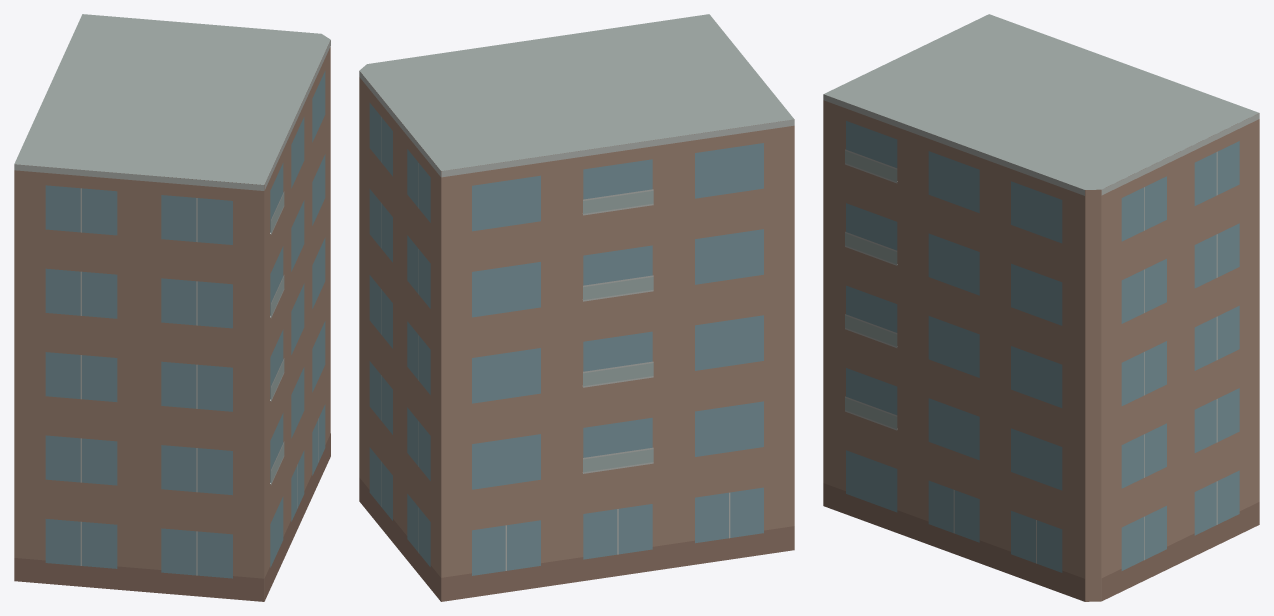
Rendered from survey-upis-32886833.glb.
3 renders of one model, left to right at view 1: azimuth 30°, elevation 25°; view 2: azimuth 150°, elevation 25°; view 3: azimuth 270°, elevation 25°, orthographic. The views are drawn at different scales.
Parts seen in each view (by area): view 1: survey-upis-32886833.tmp; view 2: survey-upis-32886833.tmp; view 3: survey-upis-32886833.tmp.
Part boxes in pixels (left/top/right/bottom): survey-upis-32886833.tmp: left=14, top=14, right=330, bottom=601; survey-upis-32886833.tmp: left=359, top=14, right=794, bottom=601; survey-upis-32886833.tmp: left=823, top=14, right=1259, bottom=601.
Size of the model in its own units: 15.41 by 16.8 by 16.14.
